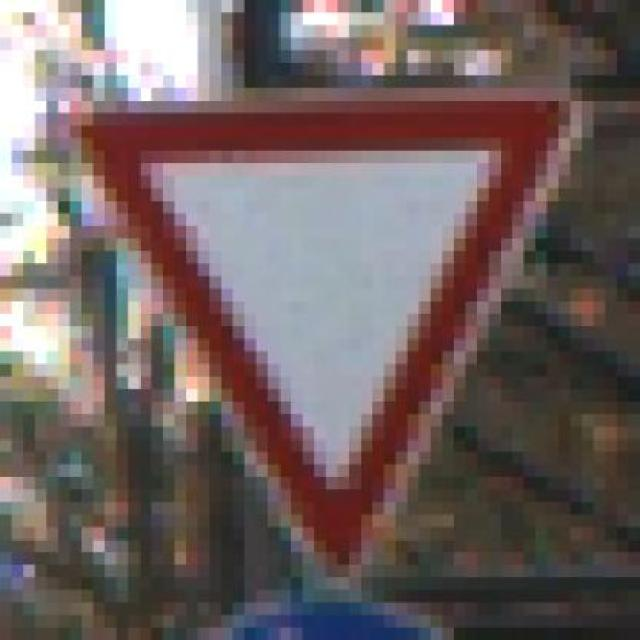Give Way: (35, 62, 617, 602)
